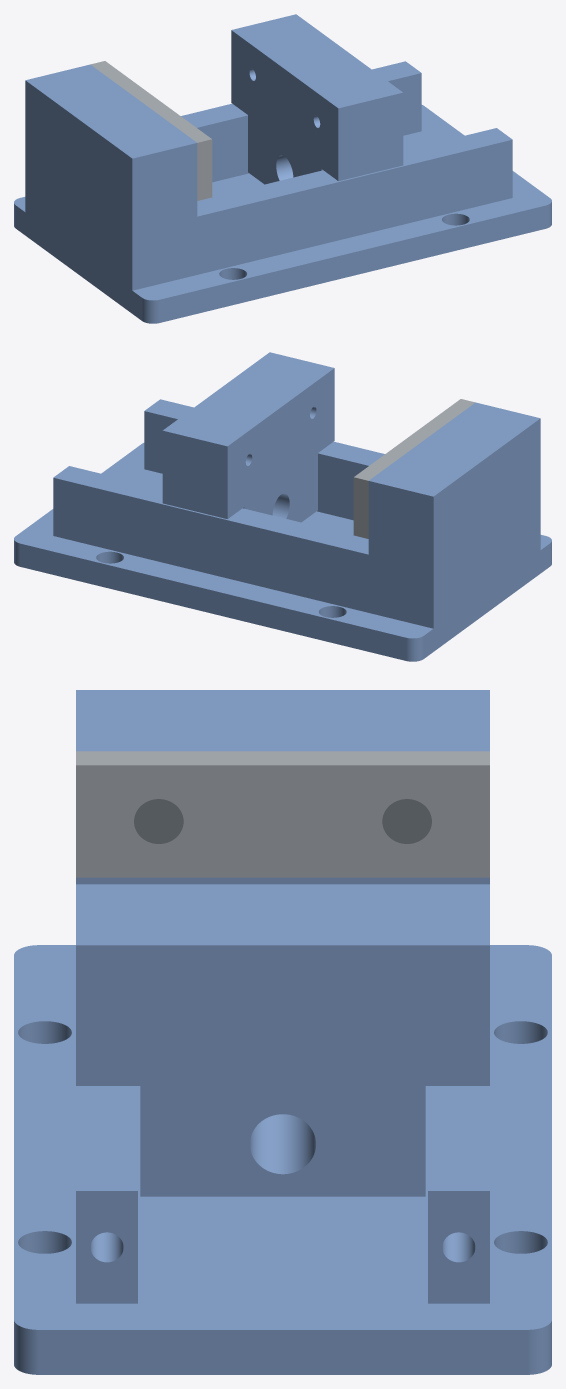
File: step_21.glb
The picture shows the model from 3 angles, top to bottom: view 1: azimuth 30°, elevation 25°; view 2: azimuth 150°, elevation 25°; view 3: azimuth 270°, elevation 25°; orthographic projection. The views are drawn at different scales.
Visible parts, largest first — view 1: part__body, part__moving jaw, part__fixed jaw plate; view 2: part__body, part__moving jaw, part__fixed jaw plate; view 3: part__body, part__moving jaw, part__fixed jaw plate, part__jaw plate screw 1, part__jaw plate screw 2.
Boxes of the visible parts, x1,y1,x2,y2 form: part__body: [14, 61, 551, 323]; part__moving jaw: [231, 14, 403, 184]; part__fixed jaw plate: [90, 61, 212, 200]; part__body: [14, 399, 551, 661]; part__moving jaw: [162, 352, 334, 522]; part__fixed jaw plate: [353, 399, 475, 538]; part__body: [14, 690, 551, 1374]; part__moving jaw: [76, 884, 489, 1196]; part__fixed jaw plate: [76, 751, 489, 877]; part__jaw plate screw 1: [382, 799, 431, 843]; part__jaw plate screw 2: [134, 799, 183, 843].
Bounding box in the file's own units: 220 × 80 × 130.
